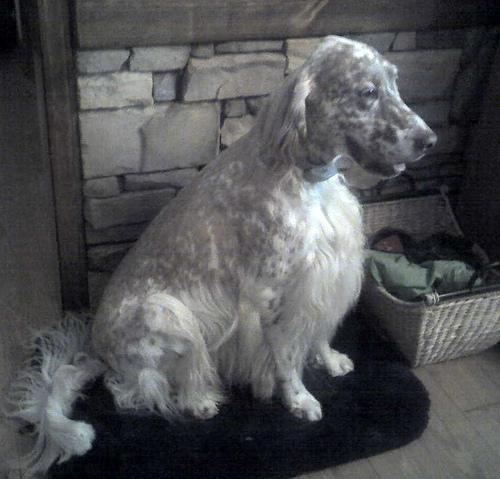dog-english_setter: (256, 33, 436, 179)
